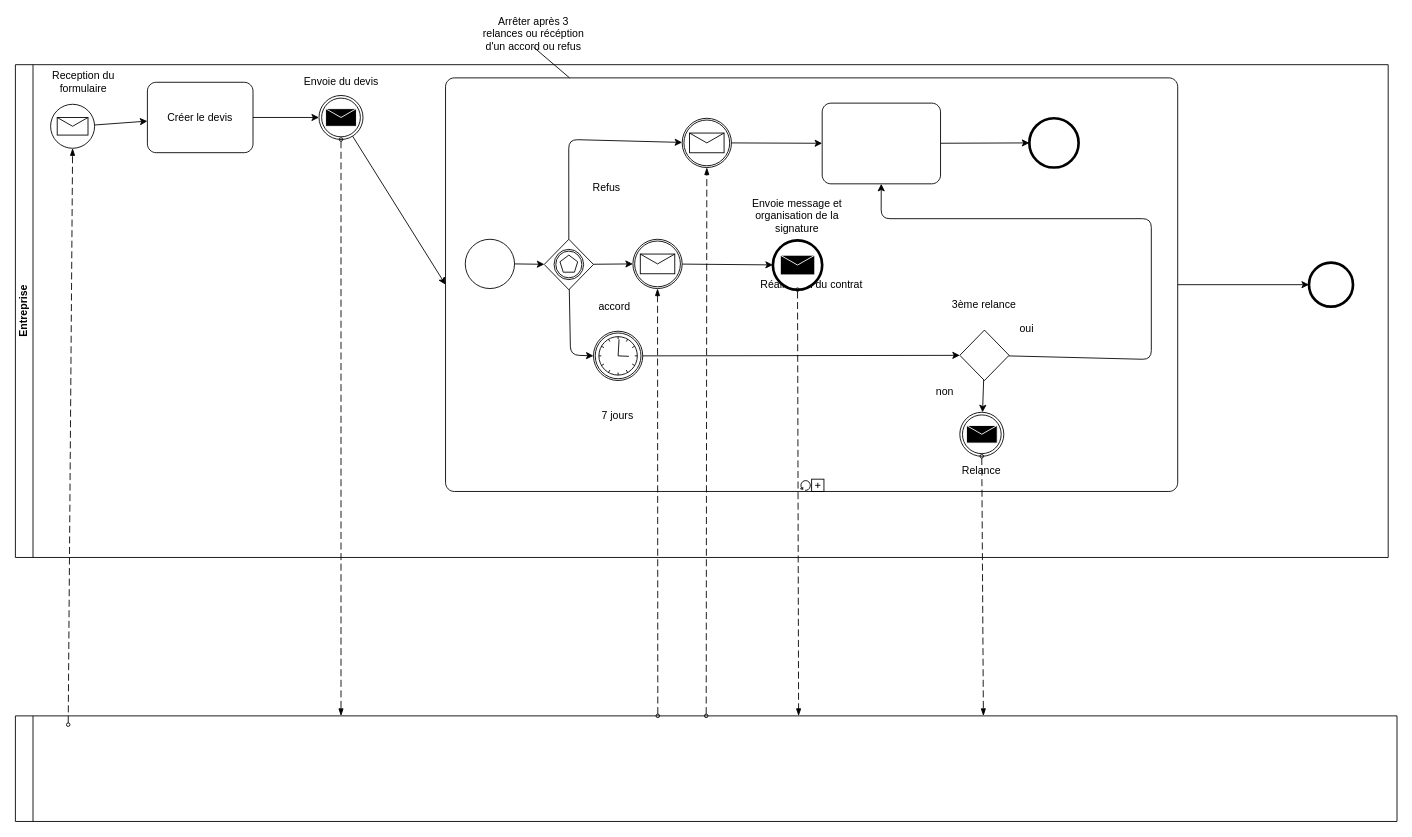
Some shapes in this 1412 by 837 pixel diagram are drawn without their labels. The centre of each missing label's shape, as x and y in pixels:
"Archiver la demande" belongs at (x=881, y=143).
"Client" belongs at (x=706, y=768).
